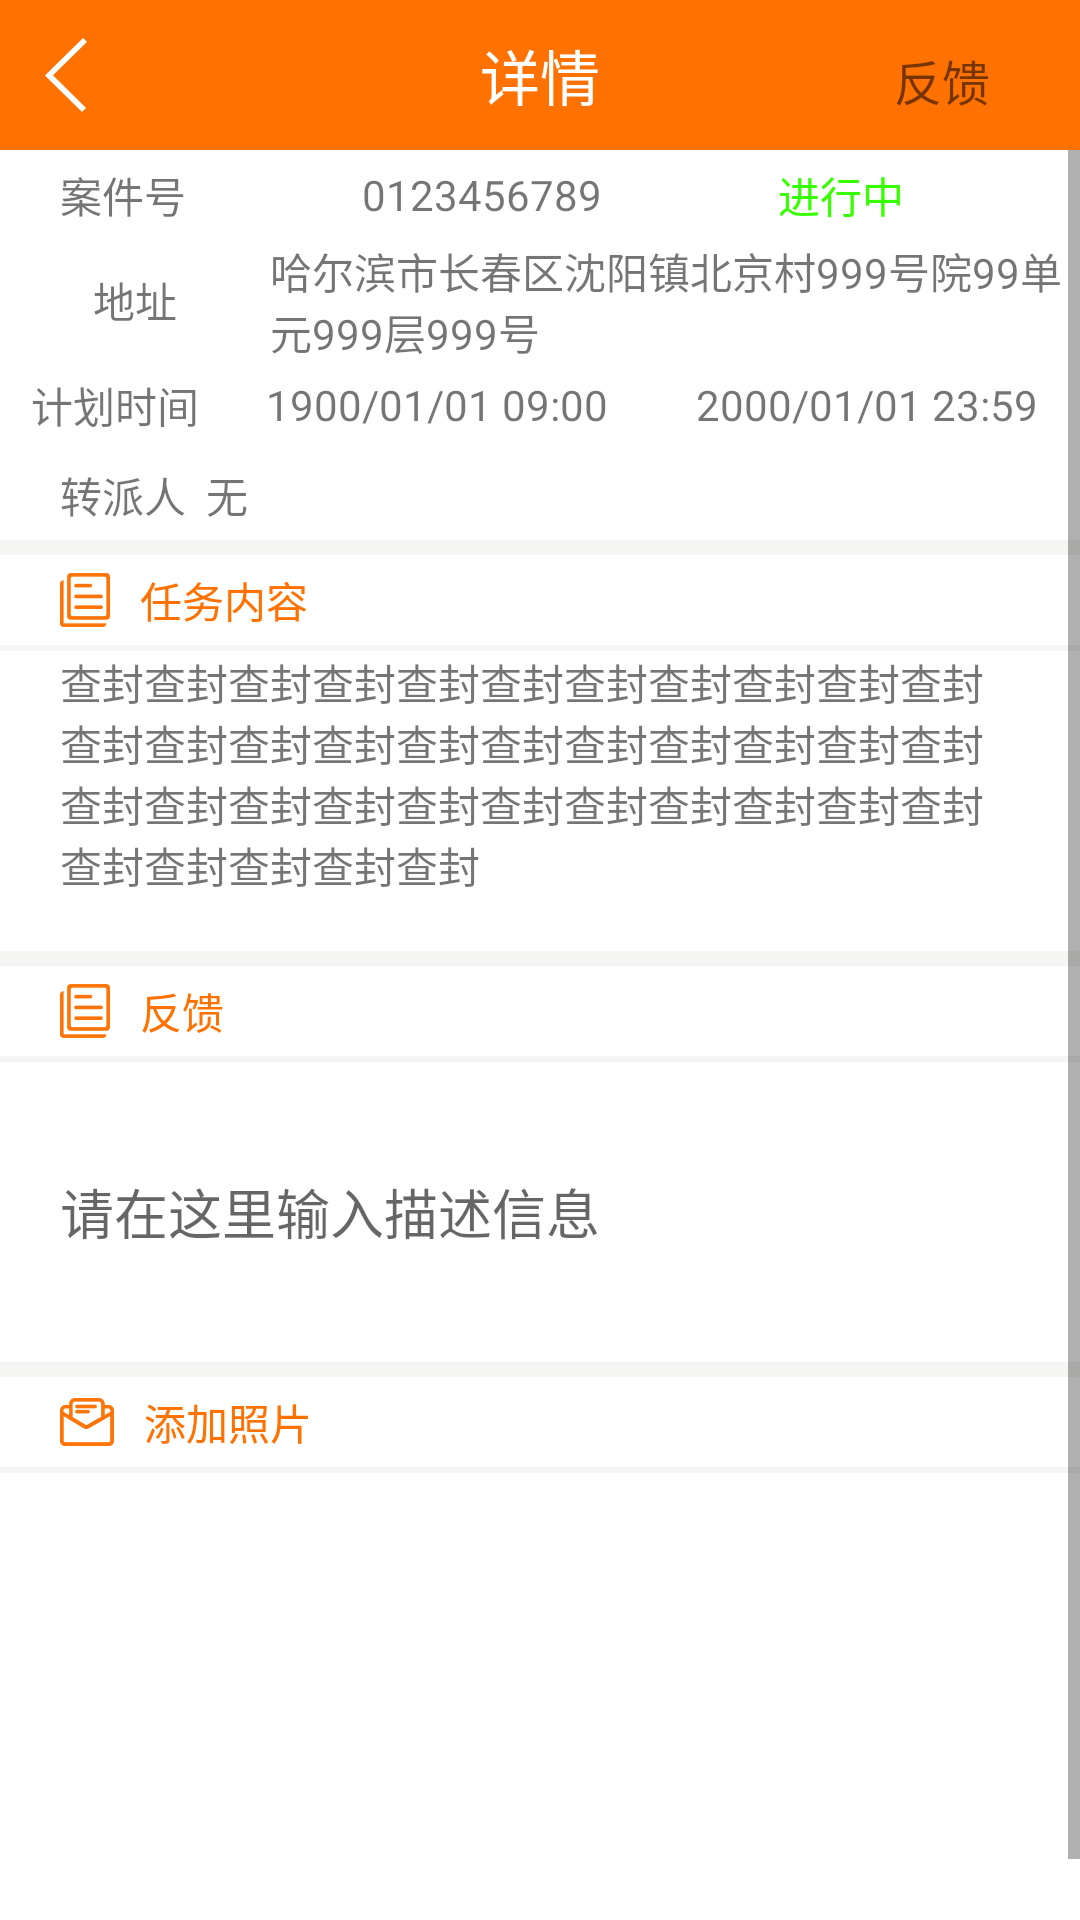

Screen size 1080 × 1920. Icon name, then its box in pixels as (x1, y1, x2, y2):
backl: (45, 38, 87, 112)
